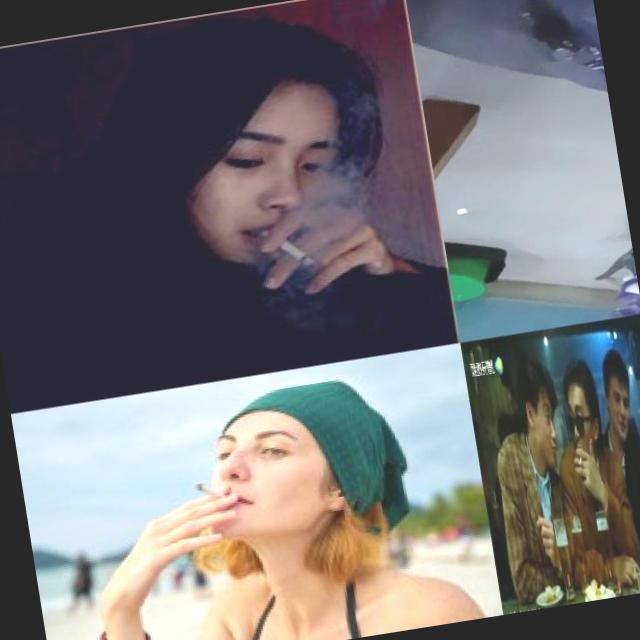smoke: (258, 219, 318, 276), (194, 473, 232, 506), (578, 456, 584, 466)
